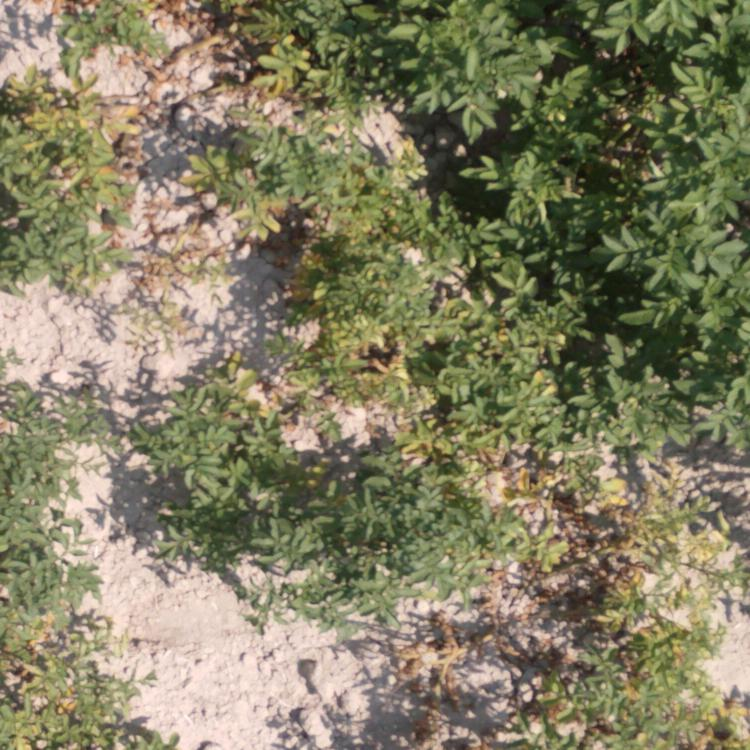healthy: (393, 7, 750, 126), (3, 392, 120, 750), (471, 136, 750, 275), (299, 462, 497, 606), (586, 282, 750, 439), (140, 387, 273, 548)
stressed: (187, 98, 448, 230), (524, 598, 732, 750), (1, 76, 135, 296), (283, 240, 436, 404), (437, 282, 574, 452), (519, 473, 719, 583), (183, 6, 393, 91), (65, 1, 181, 69), (410, 615, 460, 706)
